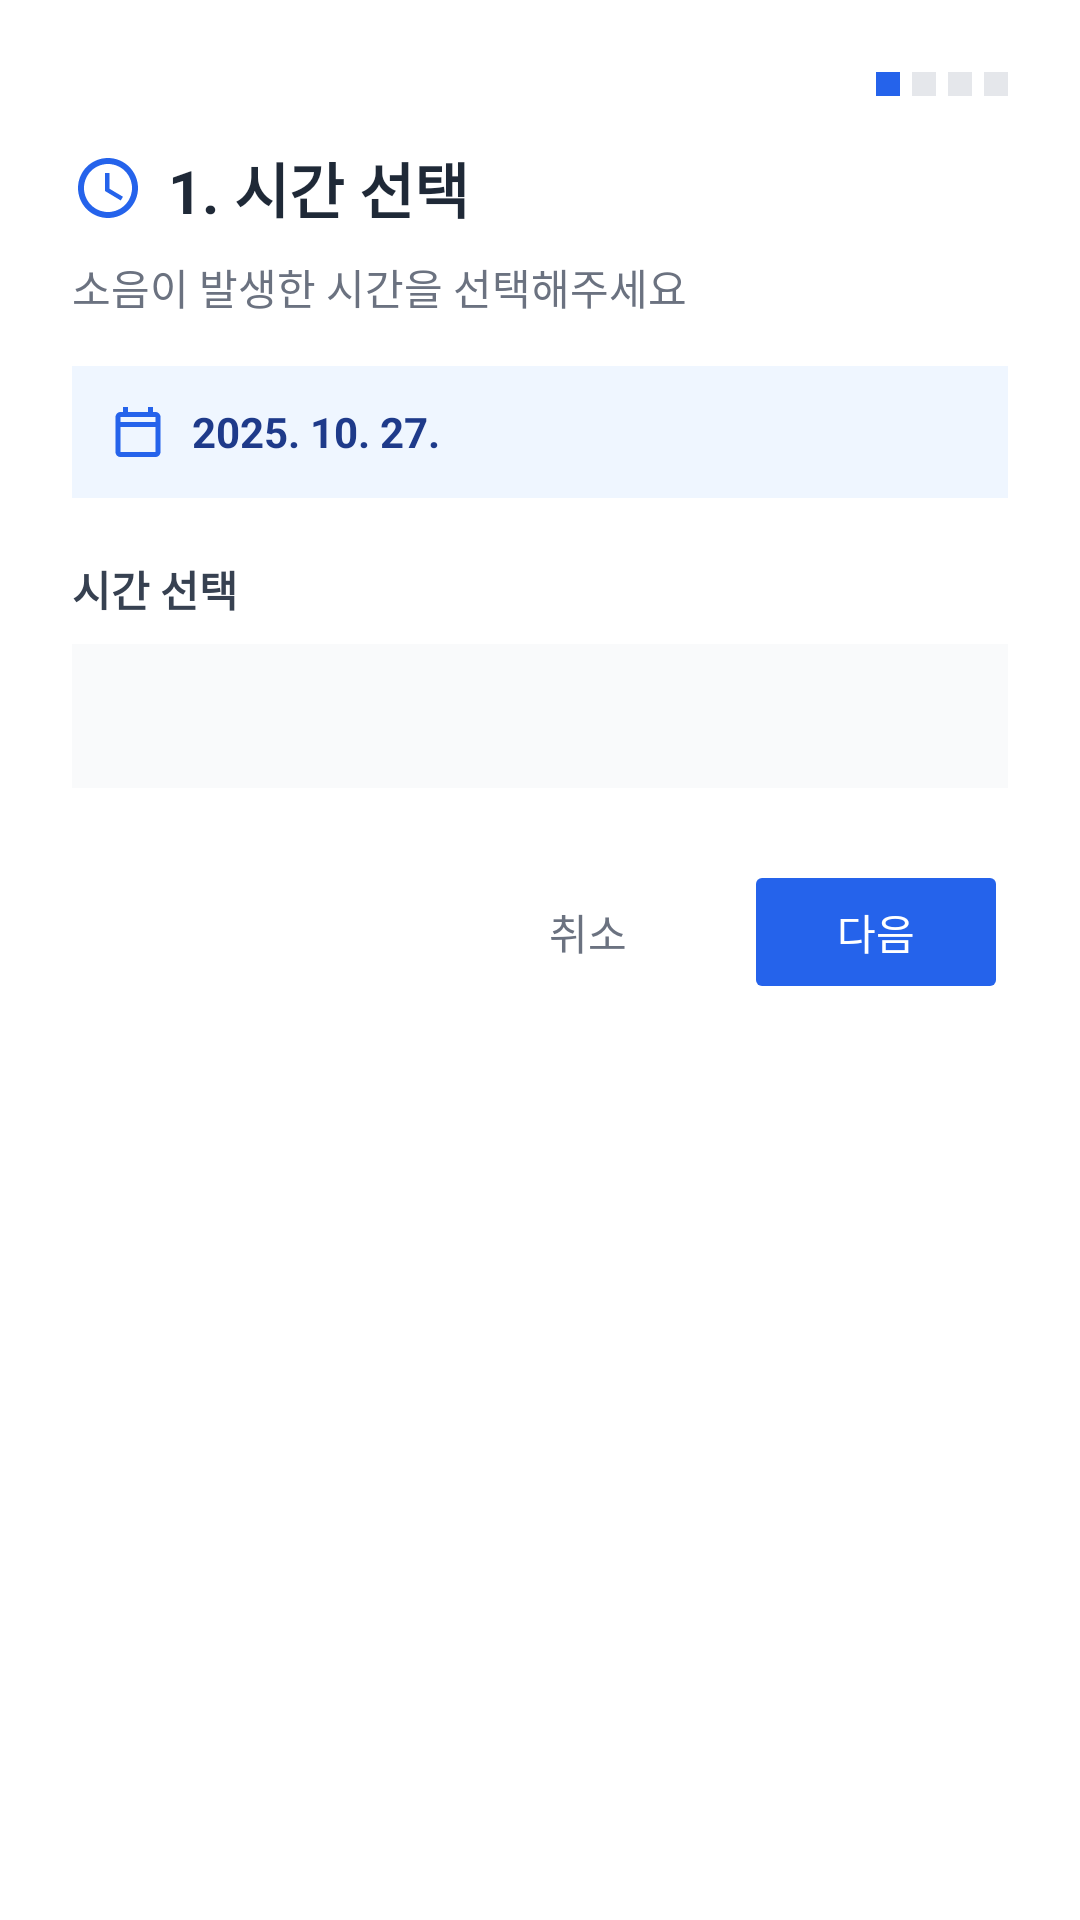

Named icons in this screenshot (1080 x 1920) and their centers, (x=x, y=y):
calendar: (x=138, y=432)
clock: (x=108, y=188)
